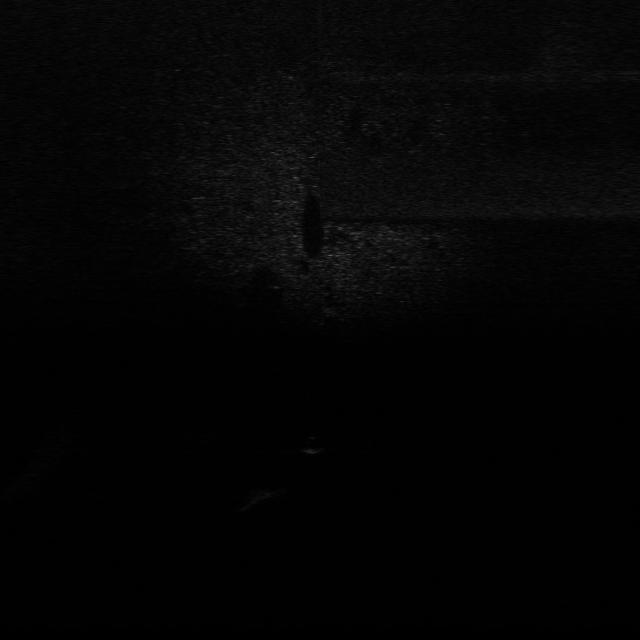ball: (294, 434, 330, 454)
square cage: (242, 484, 297, 506)
